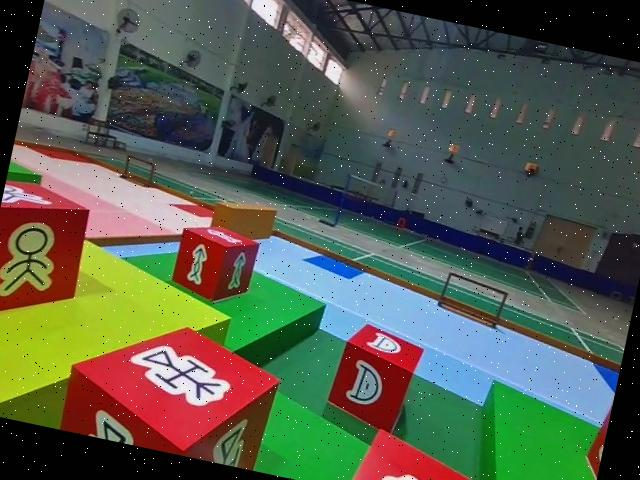R2 Real: (54, 304, 289, 473), (0, 174, 97, 335), (322, 314, 430, 439), (166, 217, 263, 311)
